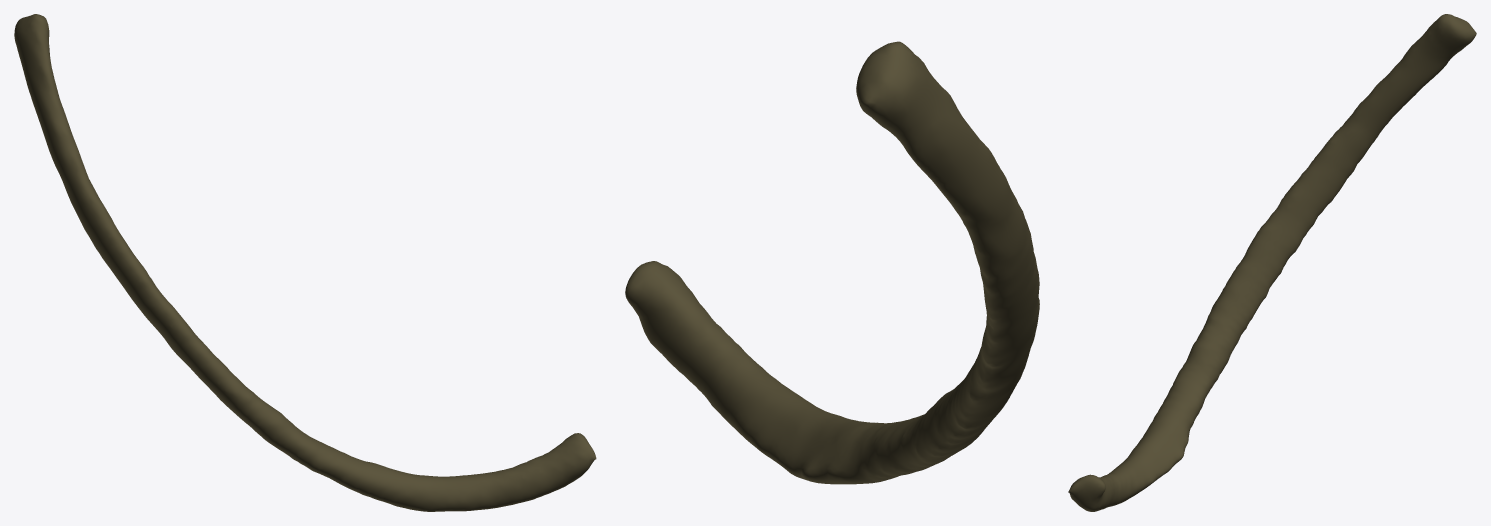
Rendered from segmentations_rib_left_9.obj.
3 renders of one model, left to right at view 1: azimuth 30°, elevation 25°; view 2: azimuth 150°, elevation 25°; view 3: azimuth 270°, elevation 25°, orthographic. The views are drawn at different scales.
Parts seen in each view (by area): view 1: grp1; view 2: grp1; view 3: grp1.
Part boxes in pixels (bbox=[...]): grp1: bbox=[14, 14, 596, 511]; grp1: bbox=[625, 41, 1039, 484]; grp1: bbox=[1068, 14, 1476, 511].
Bounding box in the file's own units: 77.01 × 83.95 × 83.53.
